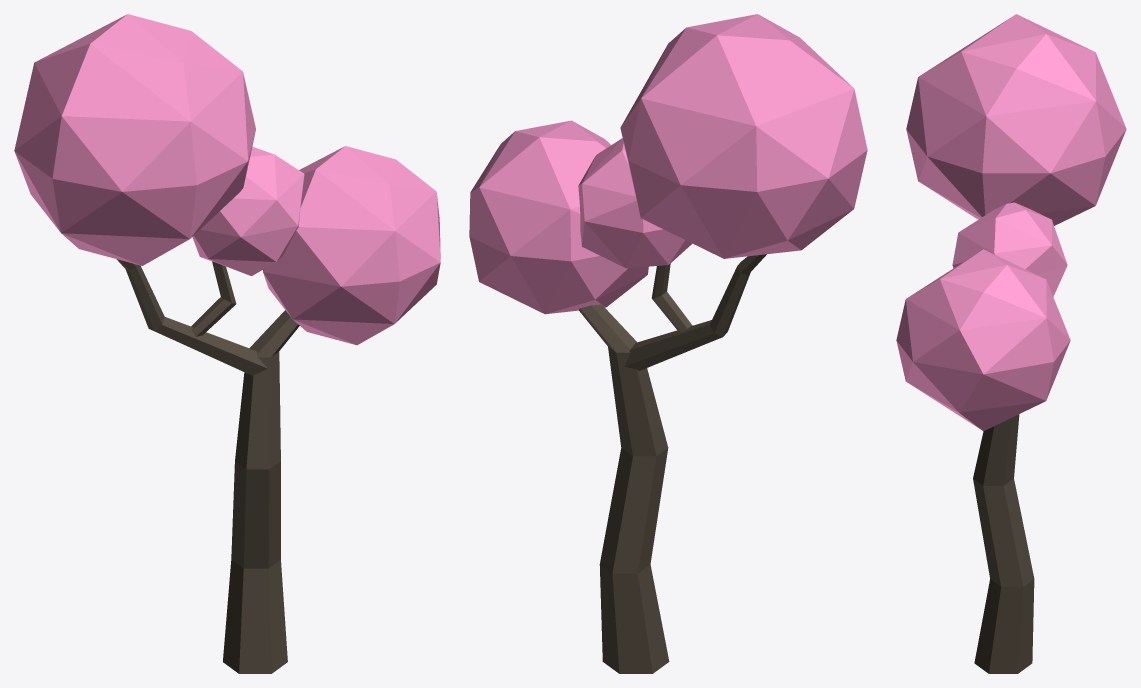
Rendered from cherry_tree_in_bloom.glb.
The picture shows the model from 3 angles, left to right: view 1: azimuth 30°, elevation 25°; view 2: azimuth 150°, elevation 25°; view 3: azimuth 270°, elevation 25°; orthographic projection. The views are drawn at different scales.
Visible parts, largest first — view 1: Object_3, Object_2; view 2: Object_3, Object_2; view 3: Object_3, Object_2.
Boxes of the visible parts, bbox=[...] form: Object_3: bbox=[14, 14, 440, 345]; Object_2: bbox=[116, 259, 299, 673]; Object_3: bbox=[469, 14, 867, 314]; Object_2: bbox=[578, 254, 766, 673]; Object_3: bbox=[896, 14, 1126, 431]; Object_2: bbox=[973, 414, 1034, 673].
Bounding box in the file's own units: 6.88 × 11.11 × 3.97.
